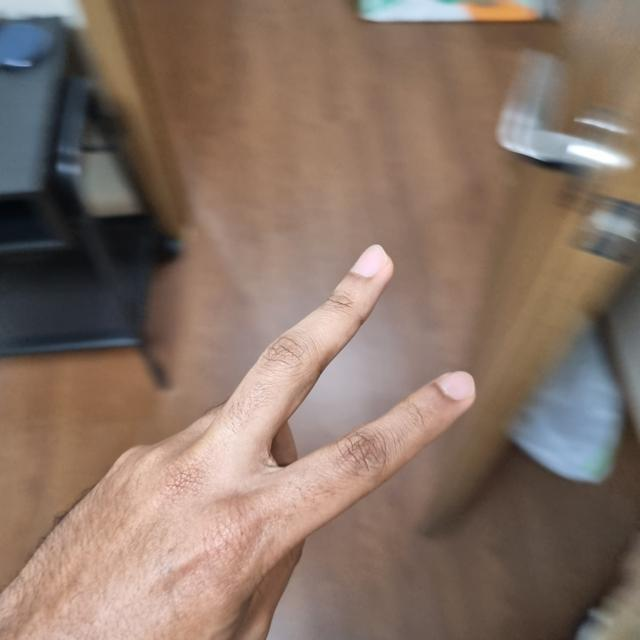Scissors: (0, 249, 476, 639)
